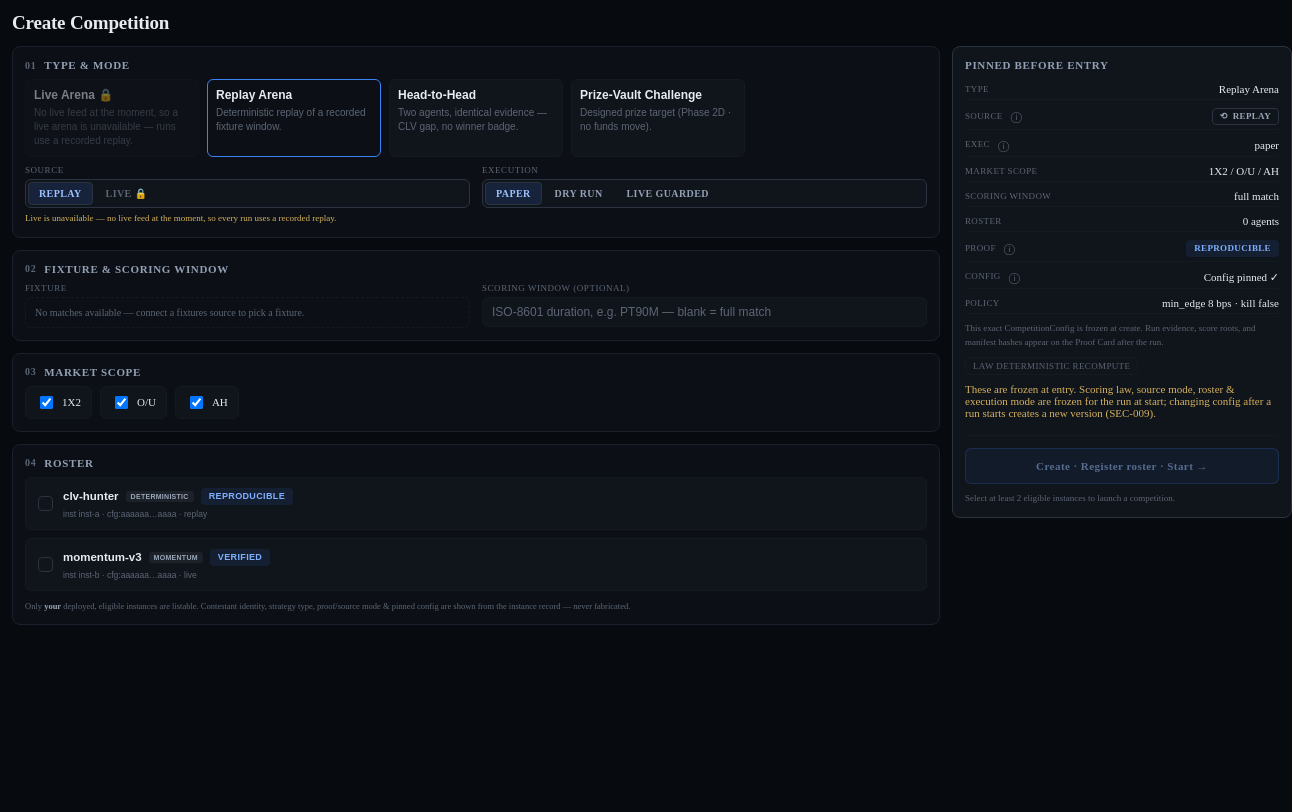
Test: CreateCompetitionScreen — roster (F-4 · owner-scoped, honest states) › selecting instances reflects the roster count in the pinned summary
Click the button with test id "roster-inst-a" at coordinates (91, 496), box [25,477,927,530]
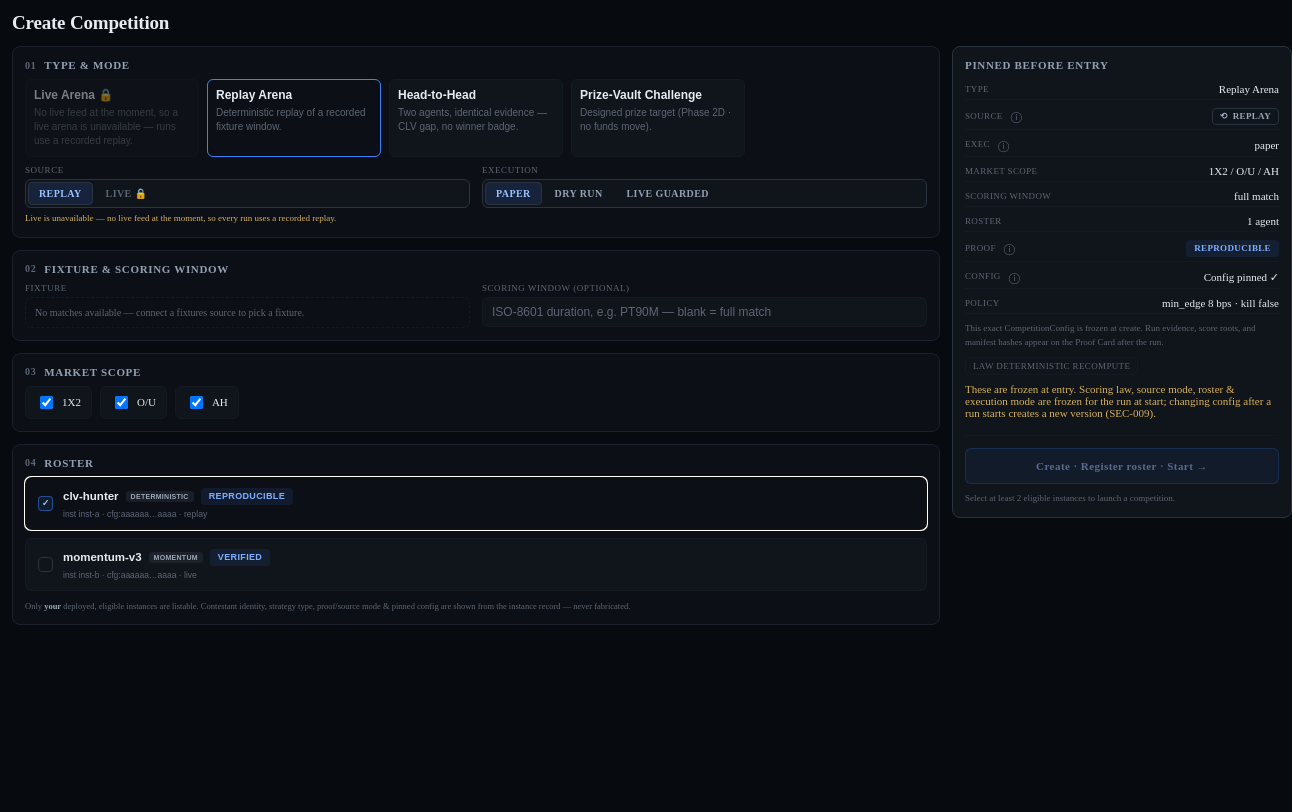
Click the button with test id "roster-inst-b" at coordinates (102, 557), box [25,538,927,591]
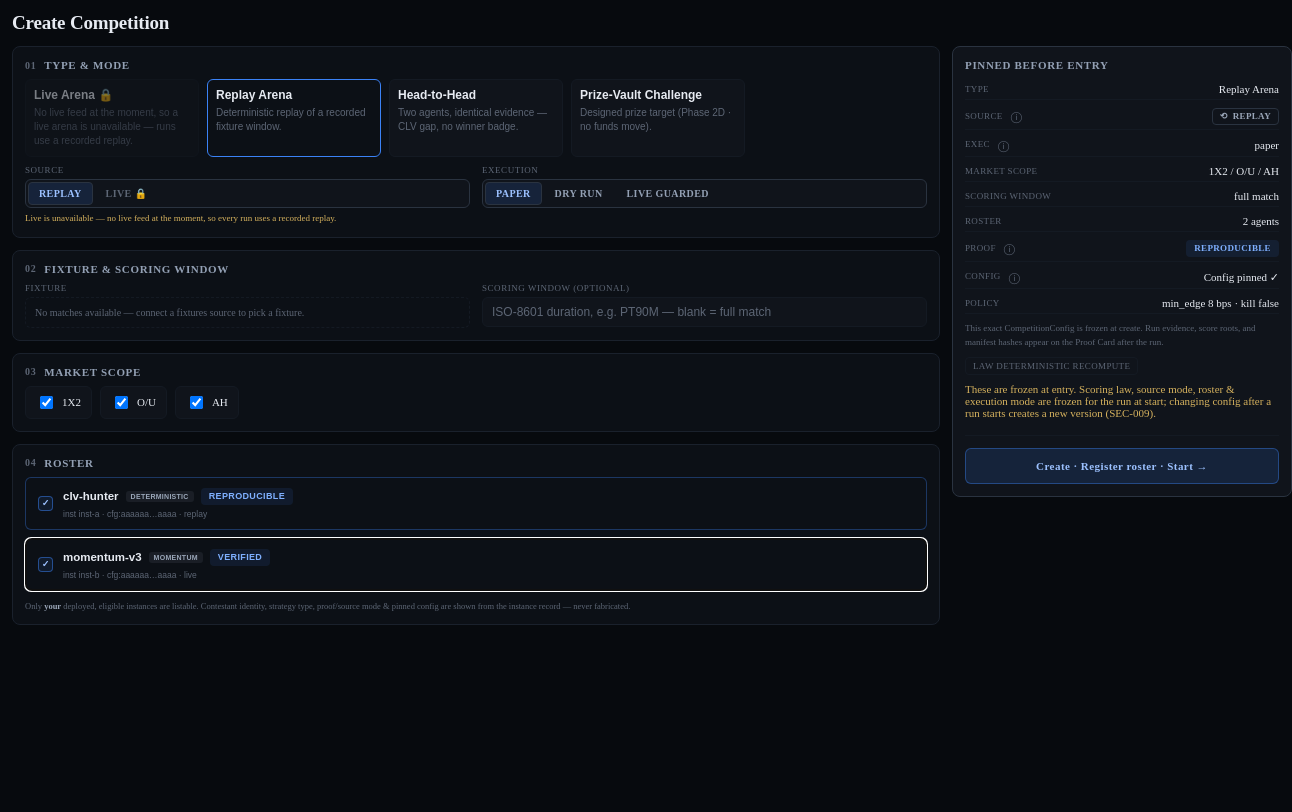
Expected: the text with test id "summary-roster" reads "2 agents", [1243,215,1279,227]
